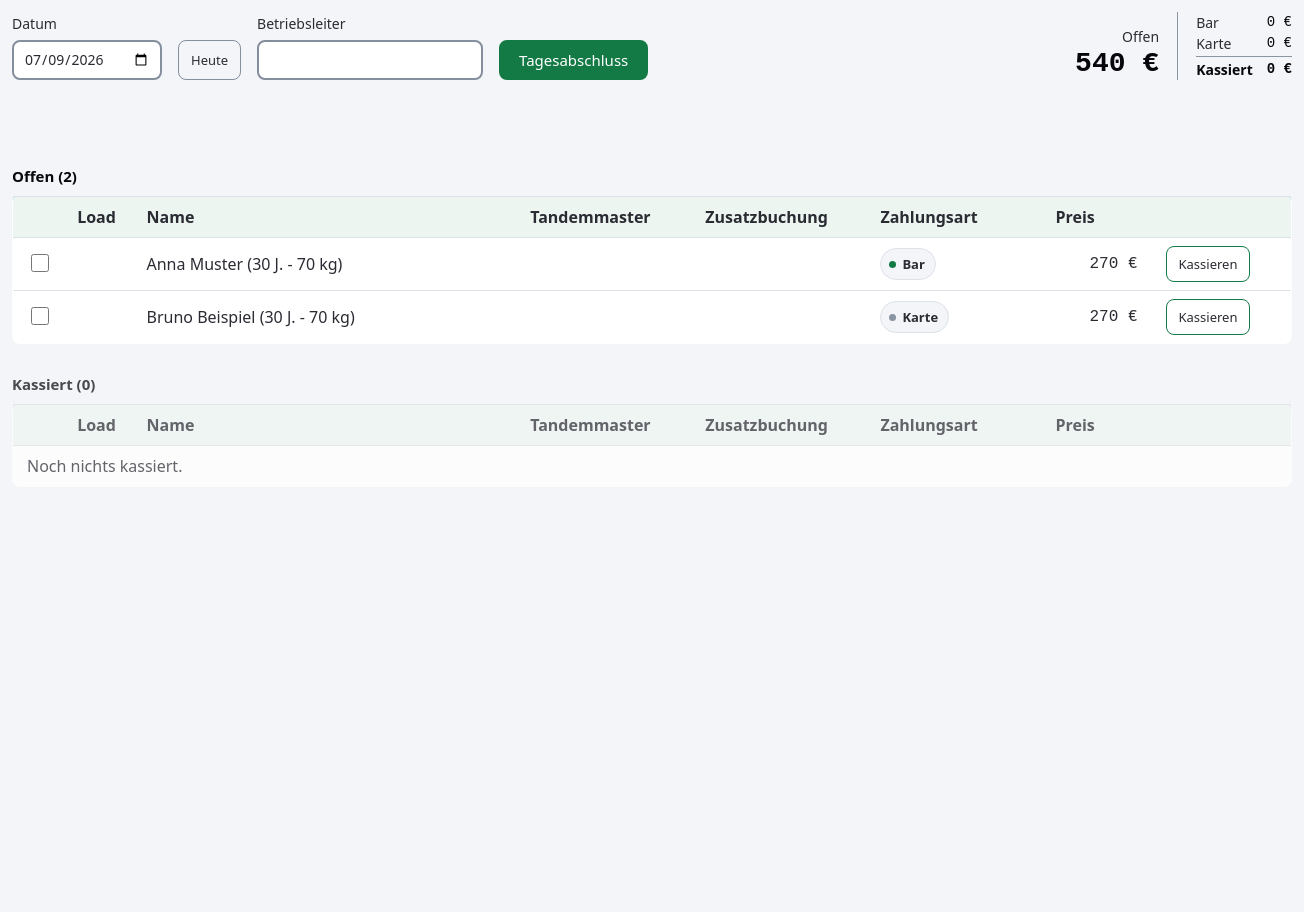
Test: List › Export-Warnung › keeps a row that was collected before a later one failed
This screenshot has width=1304, height=912.
Expected: the text "Anna Muster" is shown, [146, 253, 243, 275]
Step 1. Click the button "Tagesabschluss" → (574, 60), box [499, 40, 648, 80]
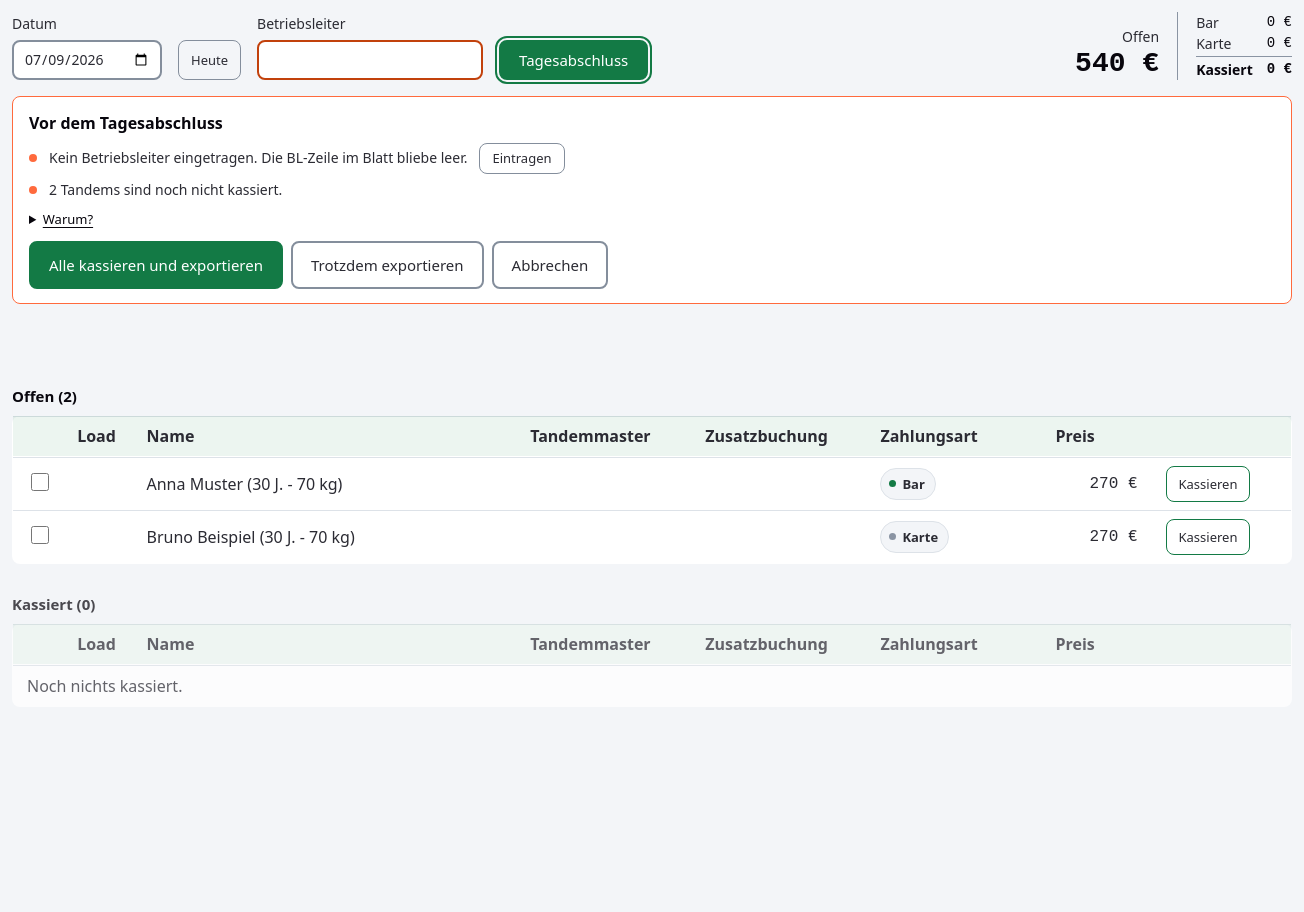
Step 2. Click the button "Alle kassieren und exportieren" → (156, 265), box [29, 241, 283, 289]
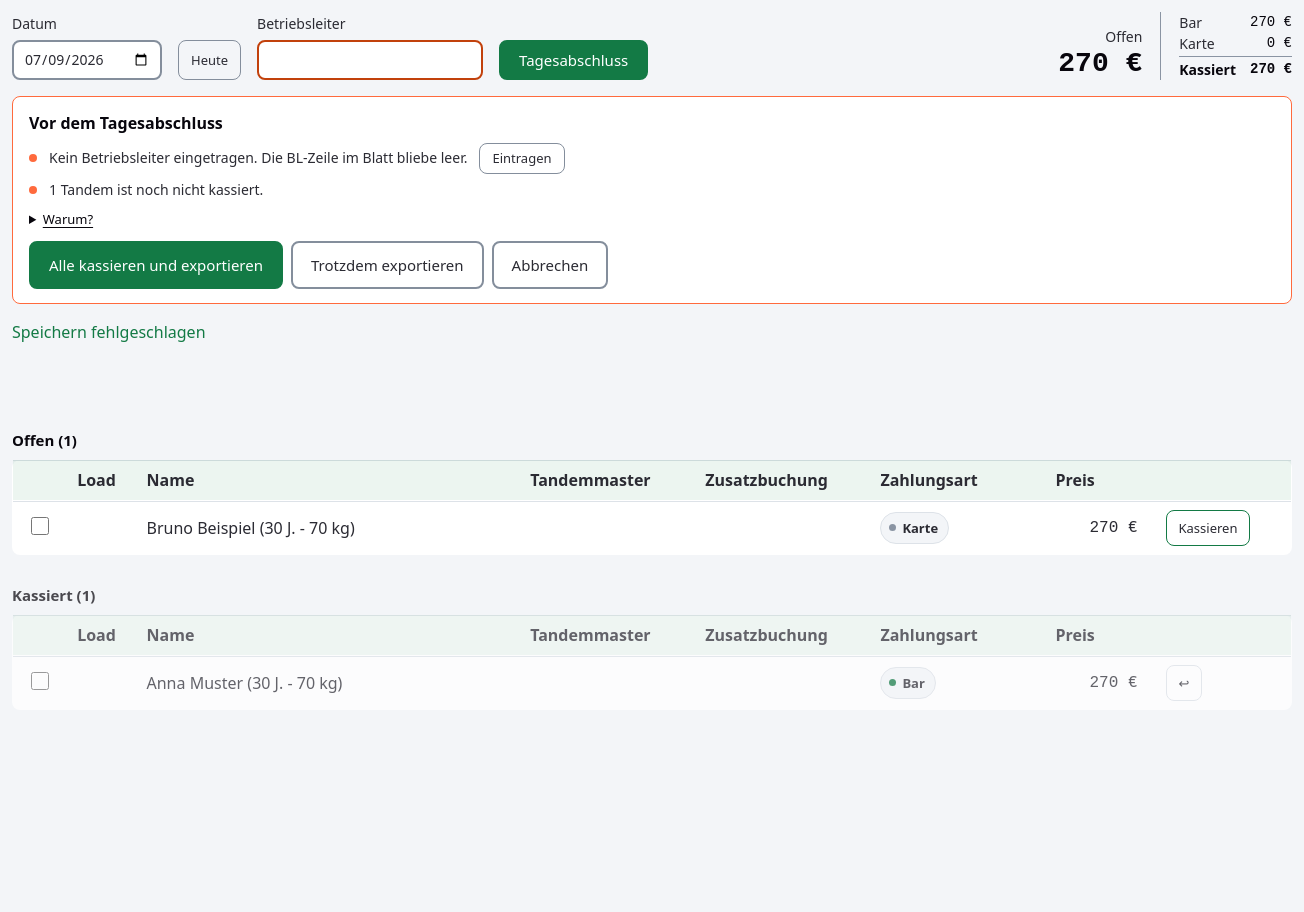
Expected: the text "Anna Muster" is shown, [146, 672, 243, 694]
Result: the text "Speichern fehlgeschlagen" is shown at [12, 321, 206, 343]
